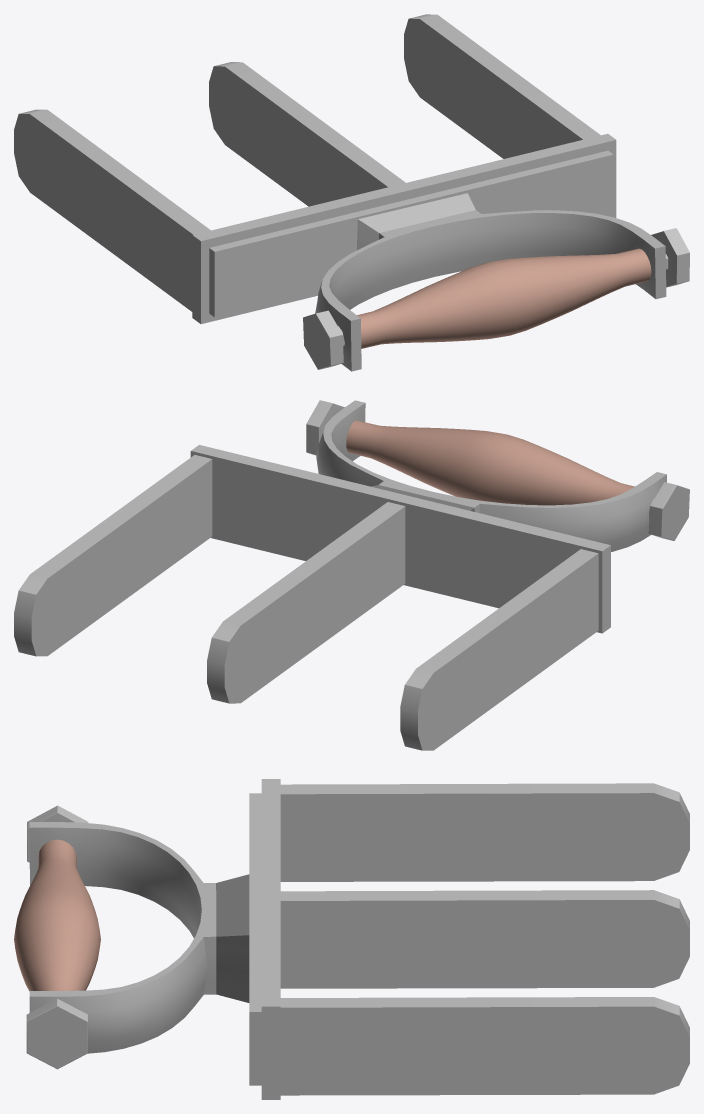
The model's file is SM_LeverWrist_01.fbx.
3 renders of one model, top to bottom at view 1: azimuth 30°, elevation 25°; view 2: azimuth 150°, elevation 25°; view 3: azimuth 270°, elevation 25°, orthographic. The views are drawn at different scales.
Parts seen in each view (by area): view 1: LeverWrist_01; view 2: LeverWrist_01; view 3: LeverWrist_01.
Part boxes in pixels (x1,y1,x2,y2): LeverWrist_01: (14, 14, 689, 371); LeverWrist_01: (14, 400, 689, 750); LeverWrist_01: (14, 779, 689, 1099).
Size of the model in its own units: 58.24 by 11.12 by 73.11.
